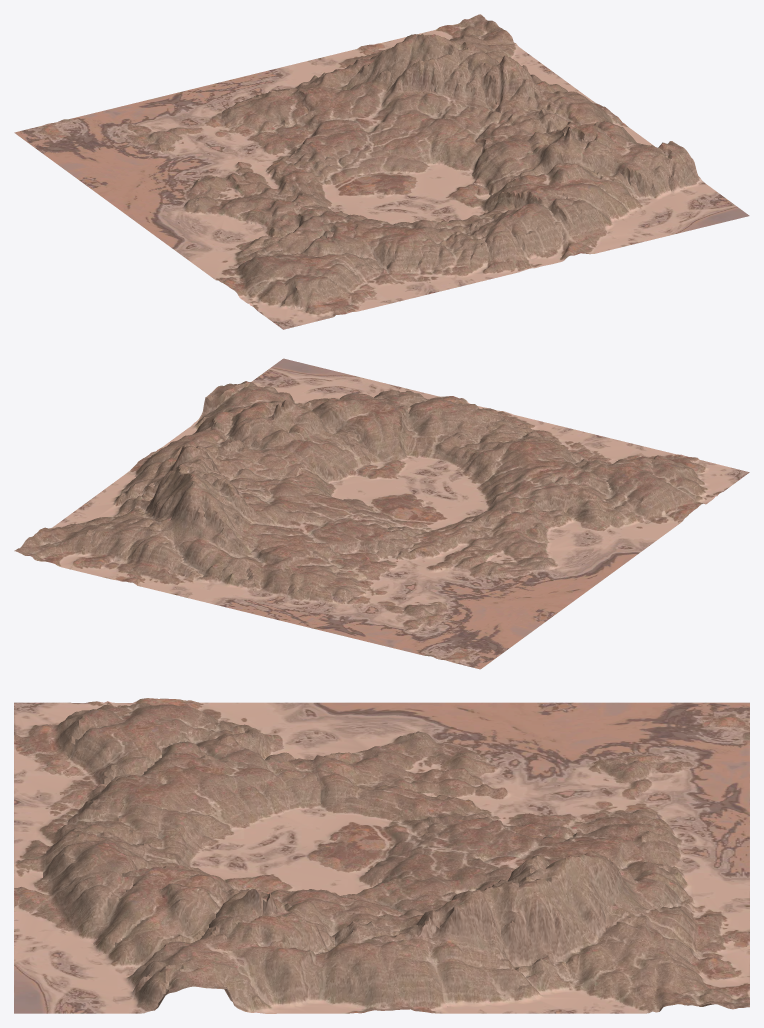
Rendered from sand_rock_pack_09.glb.
The picture shows the model from 3 angles, top to bottom: view 1: azimuth 30°, elevation 25°; view 2: azimuth 150°, elevation 25°; view 3: azimuth 270°, elevation 25°; orthographic projection. The views are drawn at different scales.
Visible parts, largest first — view 1: Mesher_MesherMat_0; view 2: Mesher_MesherMat_0; view 3: Mesher_MesherMat_0.
Boxes of the visible parts, bbox=[...] form: Mesher_MesherMat_0: bbox=[14, 14, 749, 329]; Mesher_MesherMat_0: bbox=[14, 358, 749, 669]; Mesher_MesherMat_0: bbox=[14, 698, 749, 1013].
Size of the model in its own units: 50 by 6.23 by 50.
Materials: 1 (1 with a texture image).
